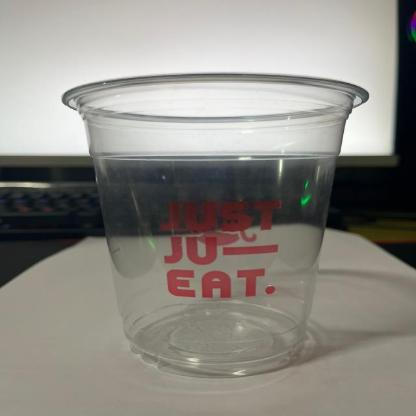Plastic Cup: (60, 71, 372, 381)
